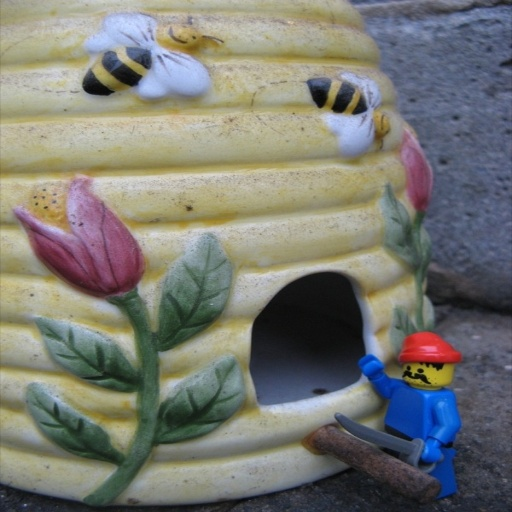hand: (356, 353, 382, 378), (418, 446, 443, 464)
